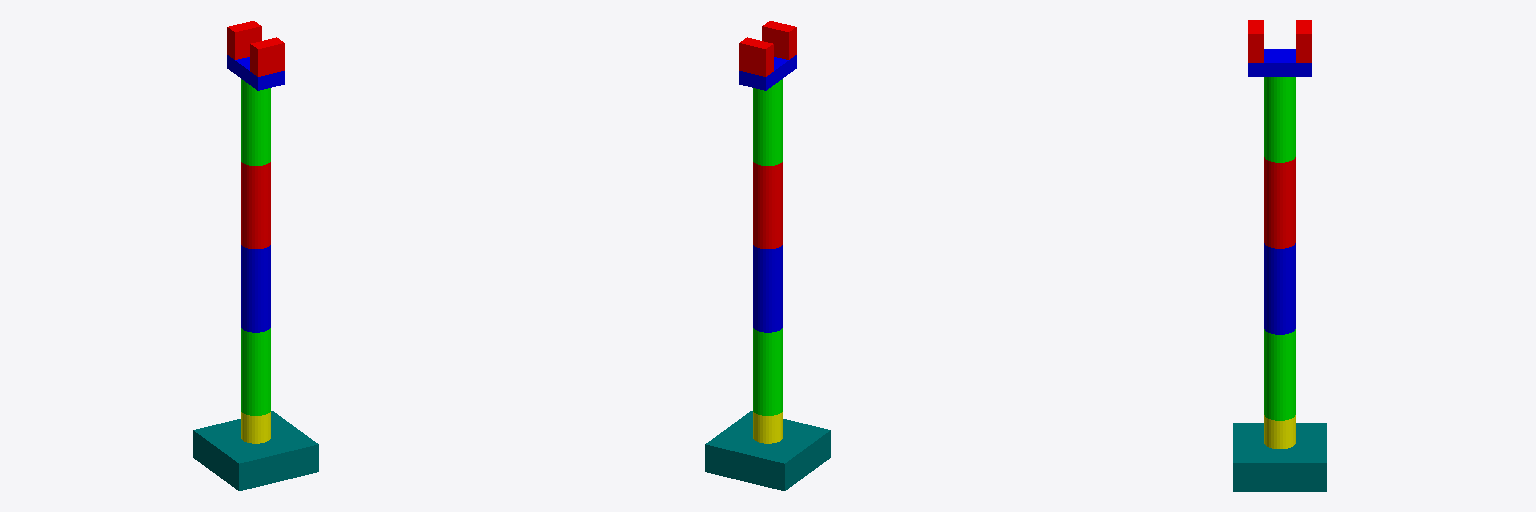
robot.urdf — arm:
<?xml version="1.0" encoding="utf-8"?>
<robot name="arm">
  <!-- 底座 -->
  <link name="base_link">
    <innrtial>
      <origin xyz="0.0 0.0 0.05" rpy="0 0 0"/>
      <mass value="1"/>
      <inertia ixx="0.01" ixy="0" ixz="0" iyy="0.01" iyz="0" izz="0.001"/>
    </innrtial>
    <visual>
      <origin xyz="0.0 0.0 0.05" rpy="0 0 0"/>
      <geometry>
        <box size="0.3 0.3 0.1"/>
      </geometry>
      <material name="Cyan1">
        <color rgba="0 0.5 0.5 1"/>
      </material>
    </visual>
    <collision>
      <origin xyz="0.0 0.0 0.05" rpy="0 0 0"/>
      <geometry>
        <box size="0.3 0.3 0.1"/>
      </geometry>
    </collision>
  </link>

  <!-- 黄色圆柱 -->
  <link name="link1">
    <inertial>
      <origin xyz="0.0 0.0 0.05" rpy="0 0 0"/>
      <mass value="1"/>
      <inertia ixx="0.01" ixy="0" ixz="0" iyy="0.01" iyz="0" izz="0.001"/>
    </inertial>
    <visual>
      <origin xyz="0.0 0.0 0.05" rpy="0 0 0"/>
      <geometry>
        <cylinder length="0.1" radius="0.05"/>
      </geometry>
      <material name="Cyan2">
        <color rgba="1 1 0 1"/>
      </material>
    </visual>
    <collision>
      <origin xyz="0.0 0.0 0.05" rpy="0 0 0"/>
      <geometry>
        <cylinder length="0.1" radius="0.05"/>
      </geometry>
    </collision>
  </link>

  <!-- 绿色圆柱 -->
  <link name="link2">
    <inertial>
      <origin xyz="0.0 0.0 0.15" rpy="0 0 0"/>
      <mass value="1"/>
      <inertia ixx="0.01" ixy="0" ixz="0" iyy="0.01" iyz="0" izz="0.001"/>
    </inertial>
    <visual>
      <origin xyz="0.0 0.0 0.15" rpy="0 0 0"/>
      <geometry>
        <cylinder length="0.3" radius="0.05"/>
      </geometry>
      <material name="Cyan3">
        <color rgba="0 1 0 1"/>
      </material>
    </visual>
    <collision>
      <origin xyz="0.0 0.0 0.15" rpy="0 0 0"/>
      <geometry>
        <cylinder length="0.3" radius="0.05"/>
      </geometry>
    </collision>
  </link>

  <!-- 蓝色圆柱 -->
  <link name="link3">
    <inertial>
      <origin xyz="0.0 0.0 0.15" rpy="0 0 0"/>
      <mass value="1"/>
      <inertia ixx="0.01" ixy="0" ixz="0" iyy="0.01" iyz="0" izz="0.001"/>
    </inertial>
    <visual>
      <origin xyz="0.0 0.0 0.15" rpy="0 0 0"/>
      <geometry>
        <cylinder length="0.3" radius="0.05"/>
      </geometry>
      <material name="Cyan4">
        <color rgba="0 0 1 1"/>
      </material>
    </visual>
    <collision>
      <origin xyz="0.0 0.0 0.15" rpy="0 0 0"/>
      <geometry>
        <cylinder length="0.3" radius="0.05"/>
      </geometry>
    </collision>
  </link>

  <!-- 红色圆柱 -->
  <link name="link4">
    <inertial>
      <origin xyz="0.0 0.0 0.15" rpy="0 0 0"/>
      <mass value="1"/>
      <inertia ixx="0.01" ixy="0" ixz="0" iyy="0.01" iyz="0" izz="0.001"/>
    </inertial>
    <visual>
      <origin xyz="0.0 0.0 0.15" rpy="0 0 0"/>
      <geometry>
        <cylinder length="0.3" radius="0.05"/>
      </geometry>
      <material name="Cyan5">
        <color rgba="1 0 0 1"/>
      </material>
    </visual>
    <collision>
      <origin xyz="0.0 0.0 0.15" rpy="0 0 0"/>
      <geometry>
        <cylinder length="0.3" radius="0.05"/>
      </geometry>
    </collision>
  </link>

  <!-- 绿色圆柱 -->
  <link name="link5">
    <inertial>
      <origin xyz="0.0 0.0 0.15" rpy="0 0 0"/>
      <mass value="1"/>
      <inertia ixx="0.01" ixy="0" ixz="0" iyy="0.01" iyz="0" izz="0.001"/>
    </inertial>
    <visual>
      <origin xyz="0.0 0.0 0.15" rpy="0 0 0"/>
      <geometry>
        <cylinder length="0.3" radius="0.05"/>
      </geometry>
      <material name="Cyan6">
        <color rgba="0 1 0 1"/>
      </material>
    </visual>
    <collision>
      <origin xyz="0.0 0.0 0.15" rpy="0 0 0"/>
      <geometry>
        <cylinder length="0.3" radius="0.05"/>
      </geometry>
    </collision>
  </link>

  <!-- 夹爪底座 -->
  <link name="gripper_base_link">
    <inertial>
      <origin xyz="0.0 0.0 0.025" rpy="0 0 0"/>
      <mass value="1"/>
      <inertia ixx="0.01" ixy="0" ixz="0" iyy="0.01" iyz="0" izz="0.001"/>
    </inertial>
    <visual>
      <origin xyz="0.0 0.0 0.025" rpy="0 0 0"/>
      <geometry>
        <box size="0.1 0.2 0.05"/>
      </geometry>
      <material name="Cyan7">
        <color rgba="0 0 1 1"/>
      </material>
    </visual>
    <collision>
      <origin xyz="0.0 0.0 0.025" rpy="0 0 0"/>
      <geometry>
        <box size="0.1 0.2 0.05"/>
      </geometry>
    </collision>
  </link>

  <!-- 右夹爪 -->
  <link name="hand_right_link">
    <inertial>
      <origin xyz="0.0 0.0 0.05" rpy="0 0 0"/>
      <mass value="1"/>
      <inertia ixx="0.01" ixy="0" ixz="0" iyy="0.01" iyz="0" izz="0.001"/>
    </inertial>
    <visual>
      <origin xyz="0.0 0.0 0.05" rpy="0 0 0"/>
      <geometry>
        <box size="0.1 0.05 0.1"/>
      </geometry>
      <material name="Cyan8">
        <color rgba="1 0 0 1"/>
      </material>
    </visual>
    <collision>
      <origin xyz="0.0 0.0 0.05" rpy="0 0 0"/>
      <geometry>
        <box size="0.1 0.2 0.05"/>
      </geometry>
    </collision>
  </link>

  <!-- 左夹爪 -->
  <link name="hand_left_link">
    <inertial>
      <origin xyz="0.0 0.0 0.05" rpy="0 0 0"/>
      <mass value="1"/>
      <inertia ixx="0.01" ixy="0" ixz="0" iyy="0.01" iyz="0" izz="0.001"/>
    </inertial>
    <visual>
      <origin xyz="0.0 0.0 0.05" rpy="0 0 0"/>
      <geometry>
        <box size="0.1 0.05 0.1"/>
      </geometry>
      <material name="Cyan9">
        <color rgba="1 0 0 1"/>
      </material>
    </visual>
    <collision>
      <origin xyz="0.0 0.0 0.05" rpy="0 0 0"/>
      <geometry>
        <box size="0.1 0.2 0.05"/>
      </geometry>
    </collision>
  </link>

  <joint name="joint1" type="revolute">
    <origin xyz="0.0 0.0 0.1" rpy="0 0 0"/>
    <parent link="base_link"/>
    <child link="link1"/>
    <axis xyz="0 0 1"/>
    <limit lower="-3.14" upper="3.14" effort="100" velocity="1"/>
  </joint>

  <joint name="joint2" type="revolute">
    <origin xyz="0.0 0.0 0.1" rpy="0 0 0"/>
    <parent link="link1"/>
    <child link="link2"/>
    <axis xyz="1 0 0"/>
    <limit lower="-3.14" upper="3.14" effort="100" velocity="1"/>
  </joint>

  <joint name="joint3" type="revolute">
    <origin xyz="0.0 0.0 0.3" rpy="0 0 0"/>
    <parent link="link2"/>
    <child link="link3"/>
    <axis xyz="1 0 0"/>
    <limit lower="-3.14" upper="3.14" effort="100" velocity="1"/>
  </joint>

  <joint name="joint4" type="revolute">
    <origin xyz="0.0 0.0 0.3" rpy="0 0 0"/>
    <parent link="link3"/>
    <child link="link4"/>
    <axis xyz="1 0 0"/>
    <limit lower="-3.14" upper="3.14" effort="100" velocity="1"/>
  </joint>

  <joint name="joint5" type="revolute">
    <origin xyz="0.0 0.0 0.3" rpy="0 0 0"/>
    <parent link="link4"/>
    <child link="link5"/>
    <axis xyz="1 0 0"/>
    <limit lower="-3.14" upper="3.14" effort="100" velocity="1"/>
  </joint>

  <joint name="joint6" type="revolute">
    <origin xyz="0.0 0.0 0.3" rpy="0 0 0"/>
    <parent link="link5"/>
    <child link="gripper_base_link"/>
    <axis xyz="0 0 1"/>
    <limit lower="-3.14" upper="3.14" effort="100" velocity="1"/>
  </joint>

  <joint name="hand_right_joint" type="prismatic">
    <origin xyz="0.0 0.075 0.05" rpy="0 0 0"/>
    <parent link="gripper_base_link"/>
    <child link="hand_right_link"/>
    <axis xyz="0 -1 0"/>
    <limit lower="0" upper="0.05" effort="100" velocity="1"/>
  </joint>

  <joint name="hand_left_joint" type="prismatic">
    <origin xyz="0.0 -0.075 0.05" rpy="0 0 0"/>
    <parent link="gripper_base_link"/>
    <child link="hand_left_link"/>
    <axis xyz="0 1 0"/>
    <limit lower="0" upper="0.05" effort="100" velocity="1"/>
    <!-- 右夹爪时动左夹爪跟着动 -->
    <mimic joint="hand_right_joint"/>
  </joint>

  <ros2_control name="FakeSystem" type="system">
    <hardware>
      <plugin>mock_components/GenericSystem</plugin>
    </hardware>
    <joint name="joint1">
      <command_interface name="position" />
      <state_interface name="position">
        <param name="initial_value">0</param>
      </state_interface>
      <state_interface name="velocity" />
    </joint>
    <joint name="joint2">
      <command_interface name="position" />
      <state_interface name="position">
        <param name="initial_value">0</param>
      </state_interface>
      <state_interface name="velocity" />
    </joint>
    <joint name="joint3">
      <command_interface name="position" />
      <state_interface name="position">
        <param name="initial_value">0</param>
      </state_interface>
      <state_interface name="velocity" />
    </joint>
    <joint name="joint4">
      <command_interface name="position" />
      <state_interface name="position">
        <param name="initial_value">0</param>
      </state_interface>
      <state_interface name="velocity" />
    </joint>
    <joint name="joint5">
      <command_interface name="position" />
      <state_interface name="position">
        <param name="initial_value">0</param>
      </state_interface>
      <state_interface name="velocity" />
    </joint>
    <joint name="joint6">
      <command_interface name="position" />
      <state_interface name="position">
        <param name="initial_value">0</param>
      </state_interface>
      <state_interface name="velocity" />
    </joint>
    <joint name="hand_right_joint">
      <command_interface name="position" />
      <state_interface name="position">
        <param name="initial_value">0</param>
      </state_interface>
      <state_interface name="velocity" />
    </joint>
  </ros2_control>
</robot>

--- What the picture shows (computed from the rendered views, not written in the file) ---
Views: 3 orthographic renders of the robot side by side, from view 1: azimuth 30°, elevation 25°; view 2: azimuth 150°, elevation 25°; view 3: azimuth 270°, elevation 25°.
Model arm with 9 links and 8 joints (6 revolute, 2 prismatic), rooted at base_link, posed all joints at 0.
Visible links, largest first — view 1: base_link, link2, link3, link4, link5, hand_left_link, hand_right_link, gripper_base_link, link1; view 2: base_link, link2, link3, link4, link5, hand_right_link, hand_left_link, gripper_base_link, link1; view 3: base_link, link2, link3, link4, link5, gripper_base_link, link1, hand_right_link, hand_left_link.
Link boxes in pixels (x1,y1,x2,y2): base_link: (193, 411, 318, 490); link2: (241, 328, 270, 415); link3: (241, 245, 270, 332); link4: (241, 162, 270, 248); link5: (241, 79, 270, 165); hand_left_link: (250, 37, 284, 76); hand_right_link: (227, 21, 261, 59); gripper_base_link: (227, 55, 284, 90); link1: (241, 412, 270, 443); base_link: (705, 411, 830, 490); link2: (753, 328, 782, 415); link3: (753, 245, 782, 332); link4: (753, 162, 782, 248); link5: (753, 79, 782, 165); hand_right_link: (739, 37, 773, 76); hand_left_link: (762, 21, 796, 59); gripper_base_link: (739, 55, 796, 90); link1: (753, 412, 782, 443); base_link: (1233, 423, 1326, 491); link2: (1264, 329, 1295, 420); link3: (1264, 243, 1295, 334); link4: (1264, 157, 1295, 248); link5: (1264, 77, 1295, 162); gripper_base_link: (1248, 49, 1311, 76); link1: (1264, 415, 1295, 448); hand_right_link: (1296, 20, 1311, 62); hand_left_link: (1248, 20, 1263, 62).
Bounding box of the posed robot: 0.3 × 0.3 × 1.55 m (x, y, z).
Geometry: primitives only (box / cylinder / sphere), no mesh files.
